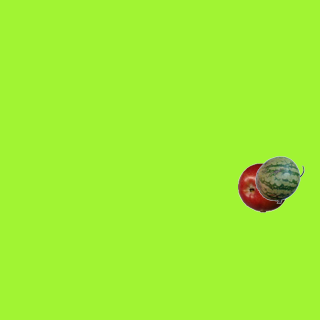Apple Braeburn: (237, 162, 287, 212)
Watermelon: (254, 154, 304, 204)
